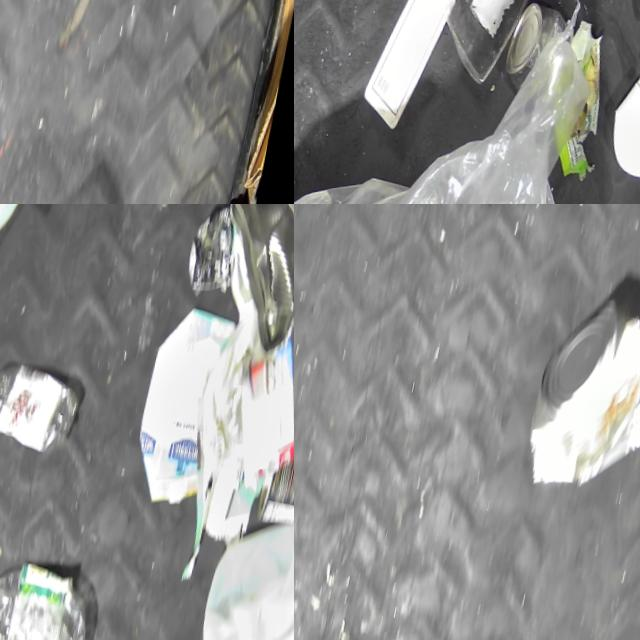can: (514, 279, 640, 514), (201, 204, 294, 369), (499, 5, 577, 111), (182, 207, 245, 305), (254, 454, 294, 540)
milk_jug: (356, 0, 465, 144), (188, 513, 294, 640), (0, 204, 45, 262)
plastic_bottle: (217, 295, 294, 474), (0, 355, 87, 469), (0, 547, 101, 640)
